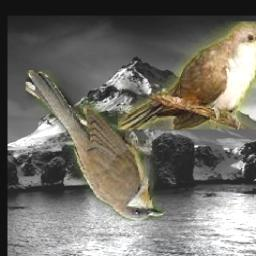Cuckoo: (27, 71, 165, 222), (119, 22, 256, 130)
